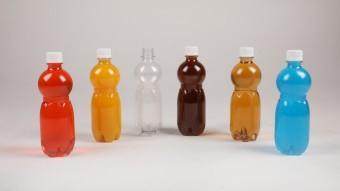bottle: (273, 48, 316, 156), (36, 52, 79, 158), (230, 46, 262, 142), (89, 48, 121, 142), (176, 46, 207, 136), (132, 48, 163, 133)
